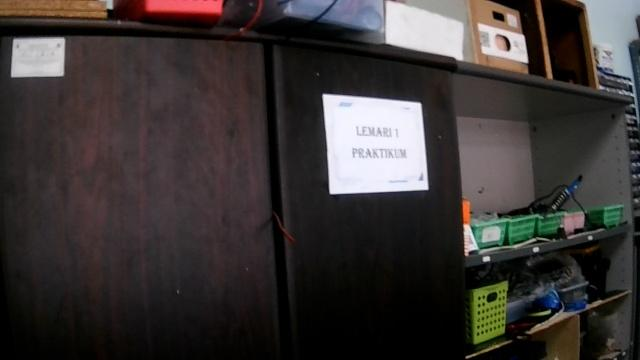Lemari: (0, 16, 462, 359)
Rak: (451, 59, 639, 359)
